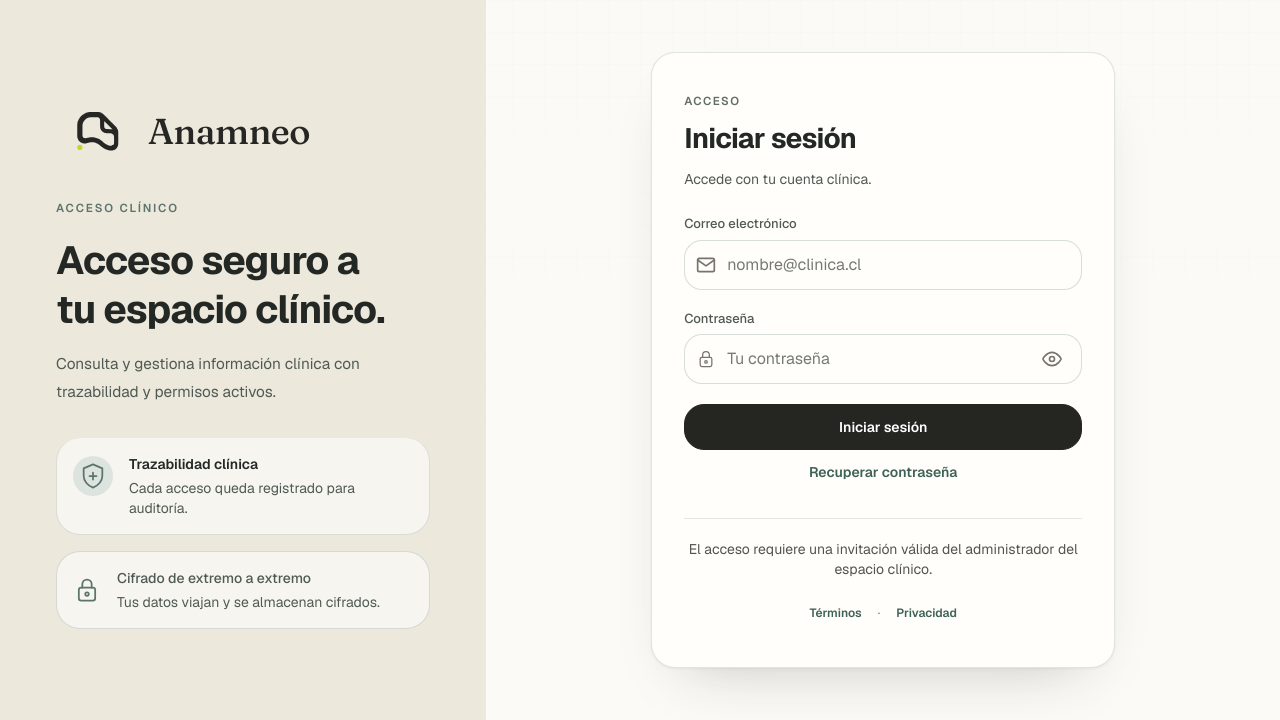
Scenario: LoginPage › shows validation errors for empty submit
What coordinates should you click on to do the following:
click the button "Iniciar sesión"
I would click on:
 (883, 427)
Its box is [684,404,1082,450].
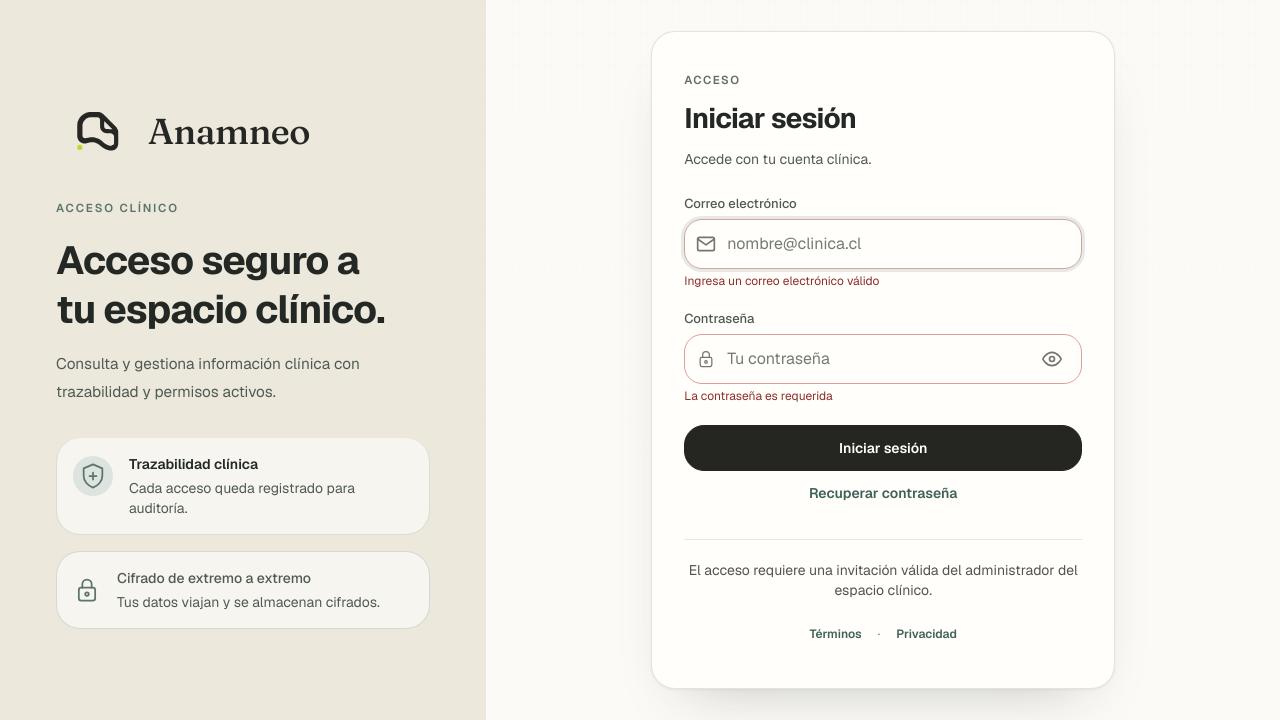
Result: the text "Ingresa un correo electrónico válido" is shown at [684,273,879,289]
Result: the text "La contraseña es requerida" is shown at [684,388,833,404]
